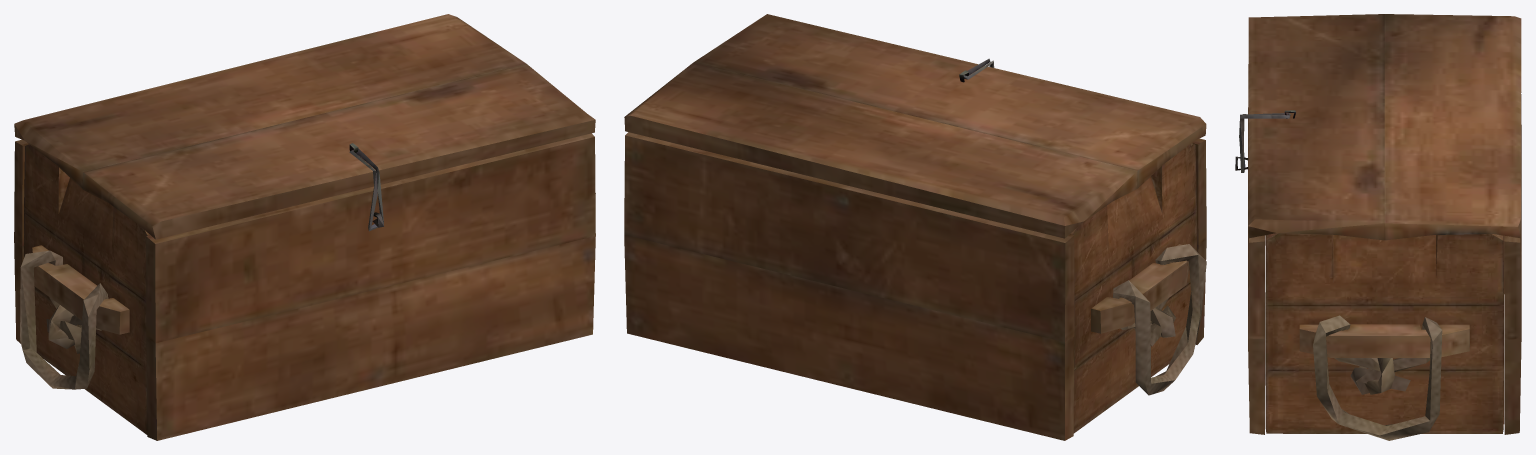
File: crate_a.glb
3 views of the same model, side by side, from view 1: azimuth 30°, elevation 25°; view 2: azimuth 150°, elevation 25°; view 3: azimuth 270°, elevation 25° (orthographic). The views are drawn at different scales.
Parts seen in each view (by area): view 1: crate_a; view 2: crate_a; view 3: crate_a.
Boxes of the visible parts, x1,y1,x2,y2 form: crate_a: (14, 14, 595, 440); crate_a: (624, 14, 1206, 440); crate_a: (1235, 14, 1521, 440).
Bounding box in the file's own units: 0.8222 × 0.3462 × 0.4061.
Materials: 1 (1 with a texture image).
